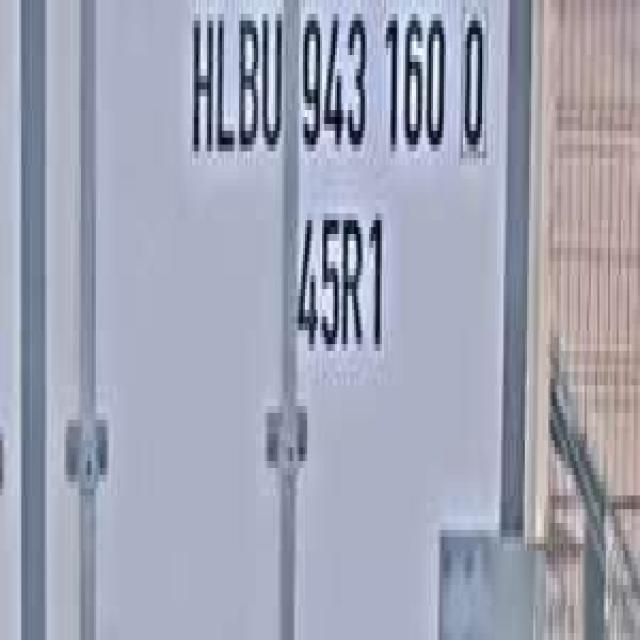dv: (454, 0, 491, 165)
owner: (185, 0, 286, 172)
serial: (297, 0, 448, 172)
size: (292, 186, 388, 365)
